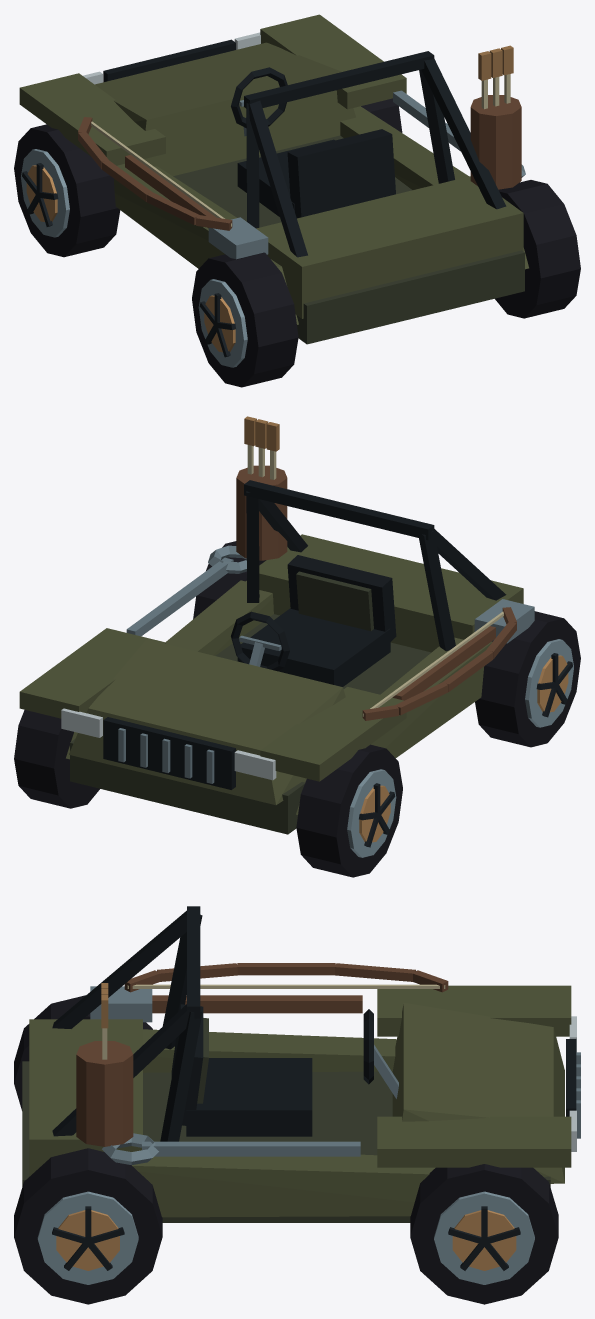
File: kart.glb
The picture shows the model from 3 angles, top to bottom: view 1: azimuth 30°, elevation 25°; view 2: azimuth 150°, elevation 25°; view 3: azimuth 270°, elevation 25°; orthographic projection. The views are drawn at different scales.
Parts seen in each view (by area): view 1: identity-jeep-jeep-offroad-frame, wheel-rear-left, wheel-front-left, identity-jeep-driver-cockpit, wheel-rear-right, identity-jeep-motif-quiver, identity-jeep-motif-tools, identity-jeep-motif-bow, wheel-front-right; view 2: identity-jeep-jeep-offroad-frame, identity-jeep-driver-cockpit, wheel-front-left, wheel-rear-left, identity-jeep-motif-tools, wheel-front-right, identity-jeep-motif-quiver, identity-jeep-motif-bow, wheel-rear-right; view 3: identity-jeep-jeep-offroad-frame, wheel-rear-right, wheel-front-right, identity-jeep-driver-cockpit, identity-jeep-motif-tools, identity-jeep-motif-quiver, identity-jeep-motif-bow, wheel-rear-left.
Boxes of the visible parts, left/top/right/bottom form: identity-jeep-jeep-offroad-frame: left=19, top=14, right=528, bottom=344; wheel-rear-left: left=192, top=252, right=298, bottom=387; wheel-front-left: left=14, top=124, right=120, bottom=257; identity-jeep-driver-cockpit: left=231, top=67, right=395, bottom=218; wheel-rear-right: left=495, top=180, right=580, bottom=318; identity-jeep-motif-quiver: left=470, top=45, right=521, bottom=189; identity-jeep-motif-tools: left=125, top=90, right=525, bottom=259; identity-jeep-motif-bow: left=78, top=117, right=232, bottom=230; wheel-front-right: left=361, top=98, right=402, bottom=132; identity-jeep-jeep-offroad-frame: left=19, top=480, right=523, bottom=834; identity-jeep-driver-cockpit: left=231, top=555, right=396, bottom=686; wheel-front-left: left=296, top=744, right=402, bottom=877; wheel-rear-left: left=475, top=611, right=580, bottom=747; identity-jeep-motif-tools: left=126, top=545, right=534, bottom=700; wheel-front-right: left=14, top=710, right=99, bottom=808; identity-jeep-motif-quiver: left=236, top=416, right=287, bottom=560; identity-jeep-motif-bow: left=362, top=607, right=516, bottom=720; wheel-rear-right: left=193, top=541, right=266, bottom=619; identity-jeep-jeep-offroad-frame: left=22, top=906, right=580, bottom=1222; wheel-rear-right: left=14, top=1148, right=162, bottom=1304; wheel-front-right: left=410, top=1164, right=558, bottom=1304; identity-jeep-driver-cockpit: left=171, top=1004, right=398, bottom=1136; identity-jeep-motif-tools: left=90, top=986, right=362, bottom=1165; identity-jeep-motif-quiver: left=76, top=983, right=133, bottom=1146; identity-jeep-motif-bow: left=124, top=963, right=448, bottom=992; wheel-rear-left: left=14, top=995, right=152, bottom=1110.
Size of the model in its own units: 2.14 by 1.54 by 2.75.
